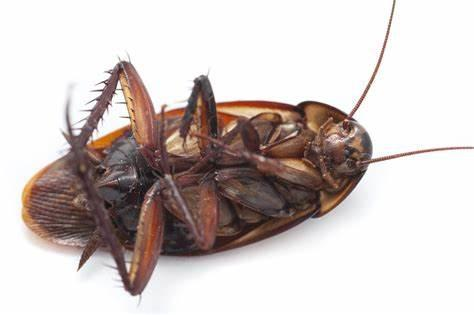cockroach: (18, 53, 392, 302)
